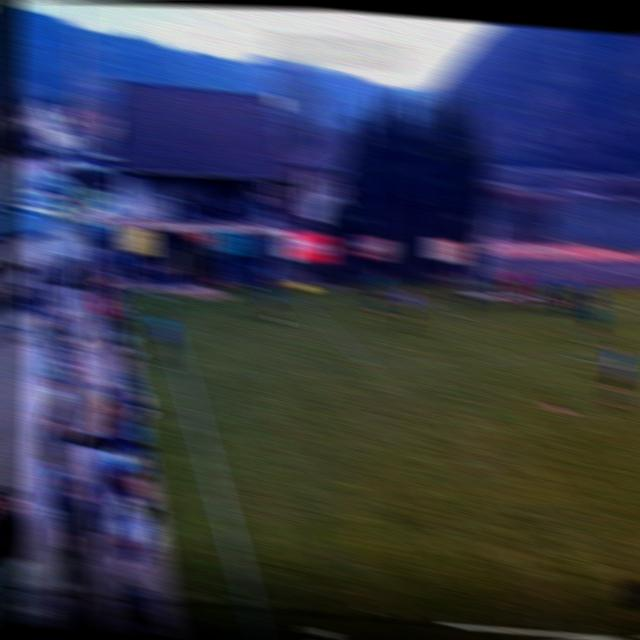bigarea_bottom_inner: (357, 351, 384, 379)
bigarea_bottom_outter: (286, 286, 311, 311)
bottom_arc_area_intersection: (561, 348, 588, 372)
corner: (146, 288, 173, 308)
smallarea_bottom_inner: (445, 306, 466, 327)
smallarea_bottom_outter: (416, 293, 436, 310)
smallarea_top_outter: (601, 297, 619, 310)
